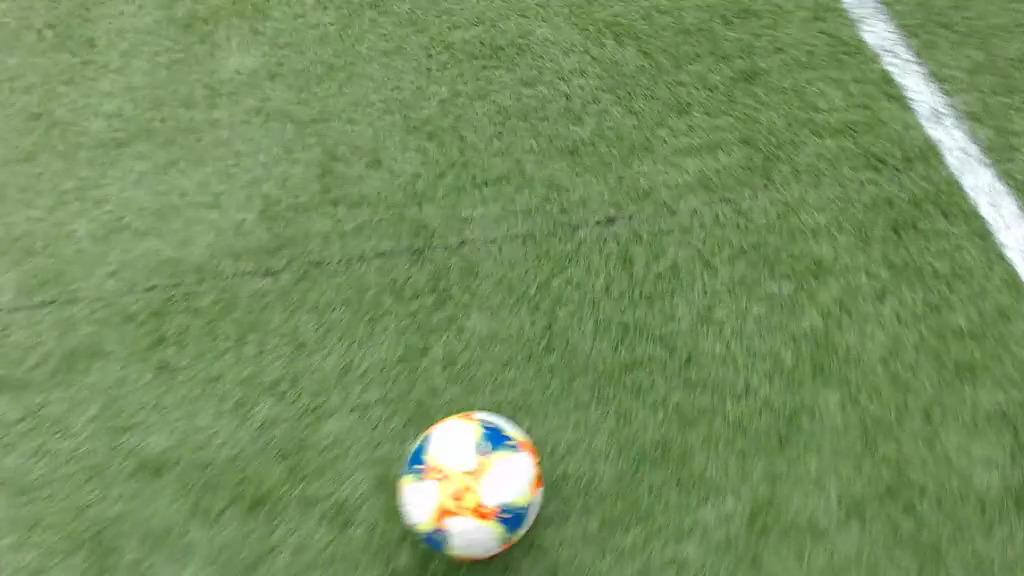ball: (397, 410, 544, 559)
